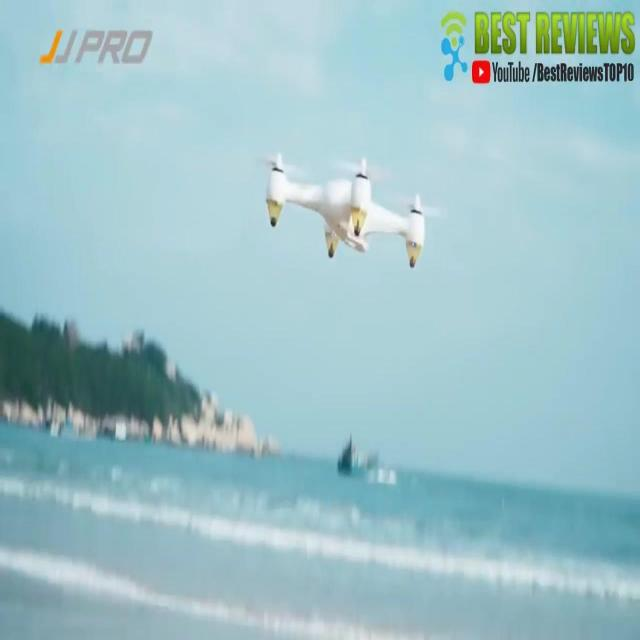UAV: (266, 154, 424, 268)
